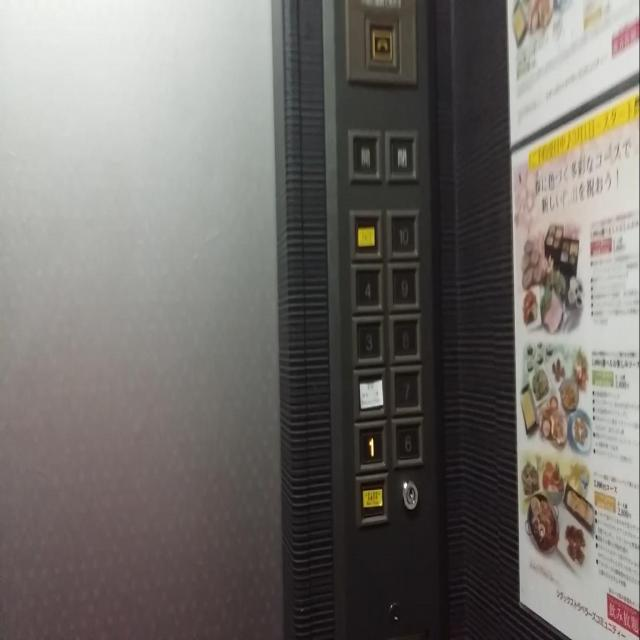1: (351, 416, 387, 476)
10: (384, 206, 420, 262)
3: (350, 314, 385, 368)
4: (349, 262, 384, 316)
6: (390, 417, 423, 469)
7: (388, 363, 422, 419)
8: (387, 308, 422, 365)
9: (386, 260, 420, 312)
blur: (349, 204, 384, 264), (353, 473, 389, 528), (352, 366, 387, 422)
call: (364, 13, 403, 72)
keyhole: (401, 478, 418, 512)
text: (346, 126, 384, 185), (384, 127, 419, 183)
